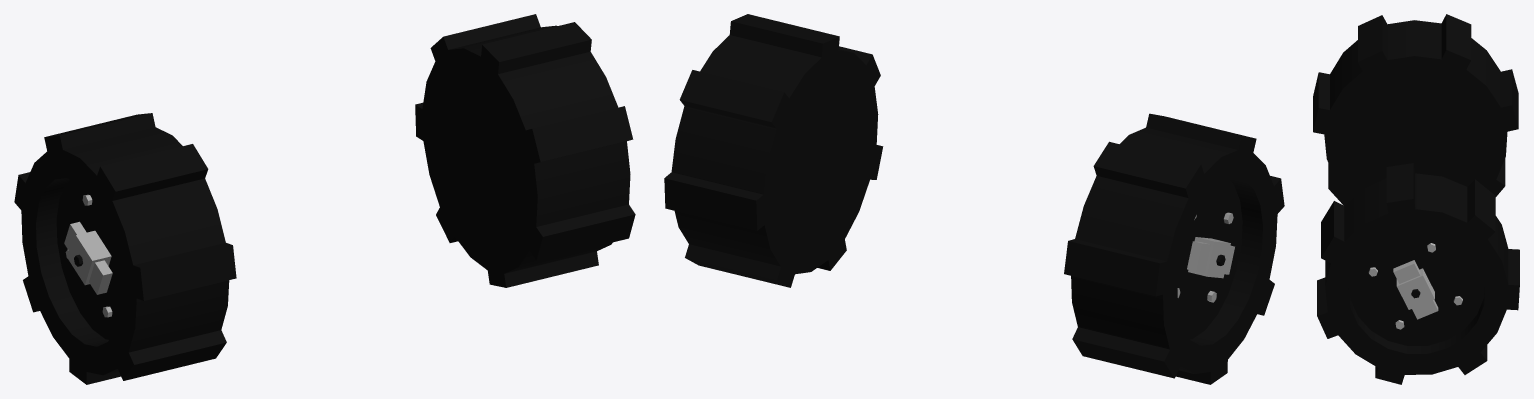
The model's file is Tank_Wheel_Back.fbx.
The picture shows the model from 3 angles, left to right: view 1: azimuth 30°, elevation 25°; view 2: azimuth 150°, elevation 25°; view 3: azimuth 270°, elevation 25°; orthographic projection. The views are drawn at different scales.
Parts seen in each view (by area): view 1: Tank_Wheel_Back; view 2: Tank_Wheel_Back; view 3: Tank_Wheel_Back.
Boxes of the visible parts, box(x1,y1,x2,y2) form: Tank_Wheel_Back: box(14, 14, 635, 384); Tank_Wheel_Back: box(664, 14, 1284, 384); Tank_Wheel_Back: box(1313, 14, 1519, 384).
Size of the model in its own units: 182 by 83.1 by 82.52.
